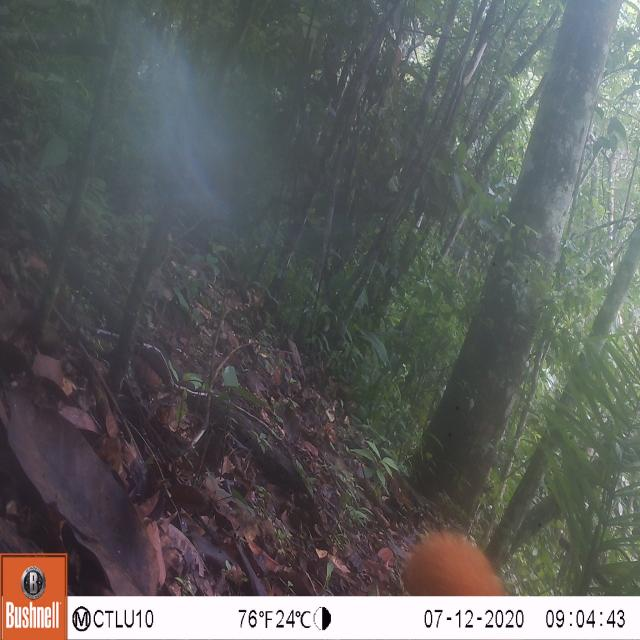Squirrel: (398, 519, 509, 595)
